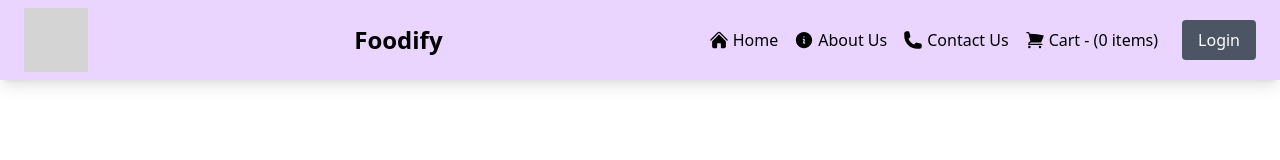
Test: should change login to logout on a click
What coordinates should you click on to do the following:
click the button "Login"
I would click on:
 (1219, 40)
Its box is [1182,20,1256,60].
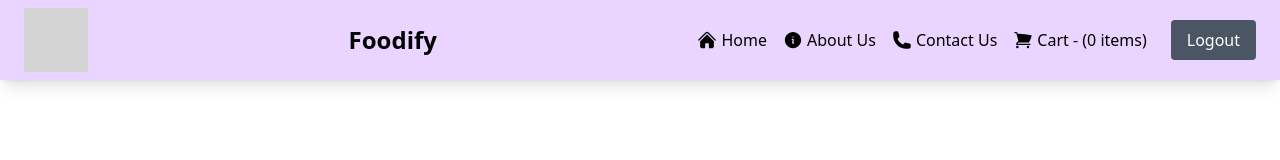
expect the button "Logout" is shown: met, box [1171,20,1256,60]
